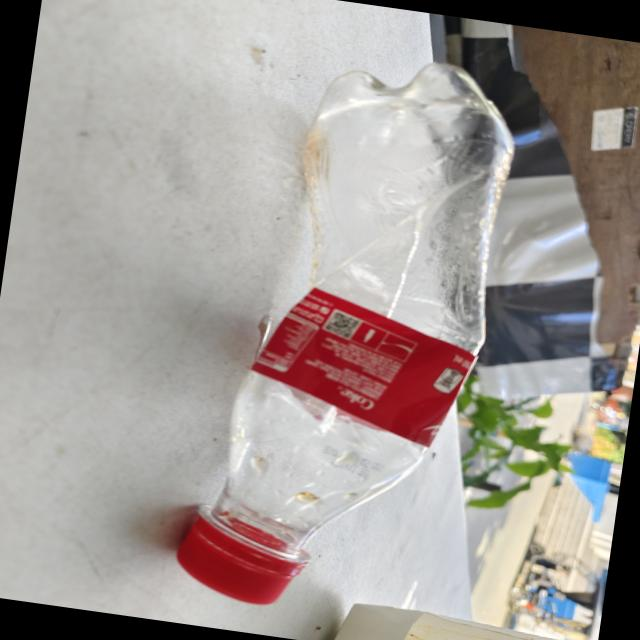Bottle: (177, 62, 514, 604)
